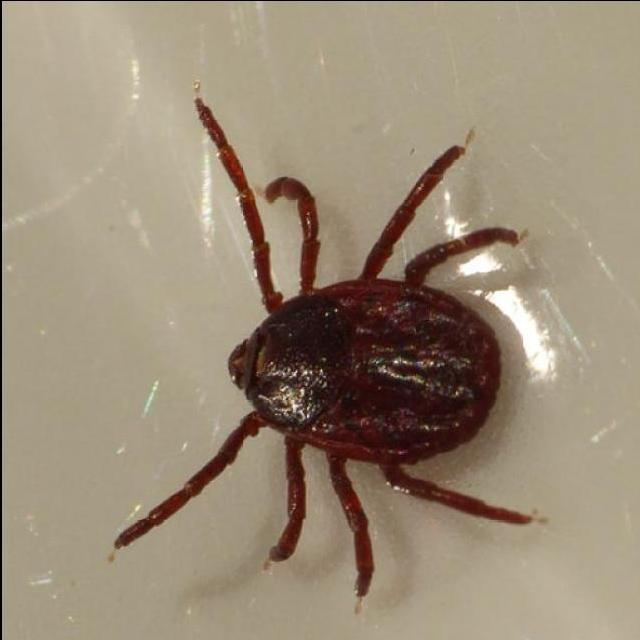Rhipicephalus Sanguineus-F: (112, 105, 540, 603)
